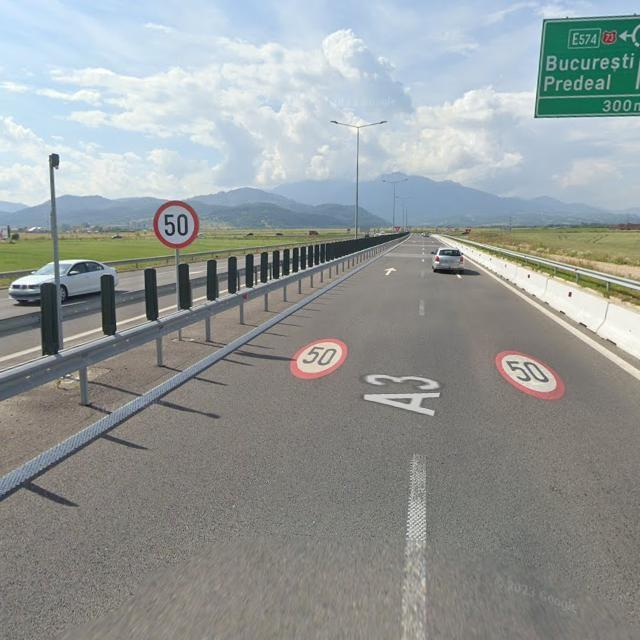forb_speed_over_50: (494, 348, 567, 401), (290, 338, 348, 381), (154, 200, 201, 248)
